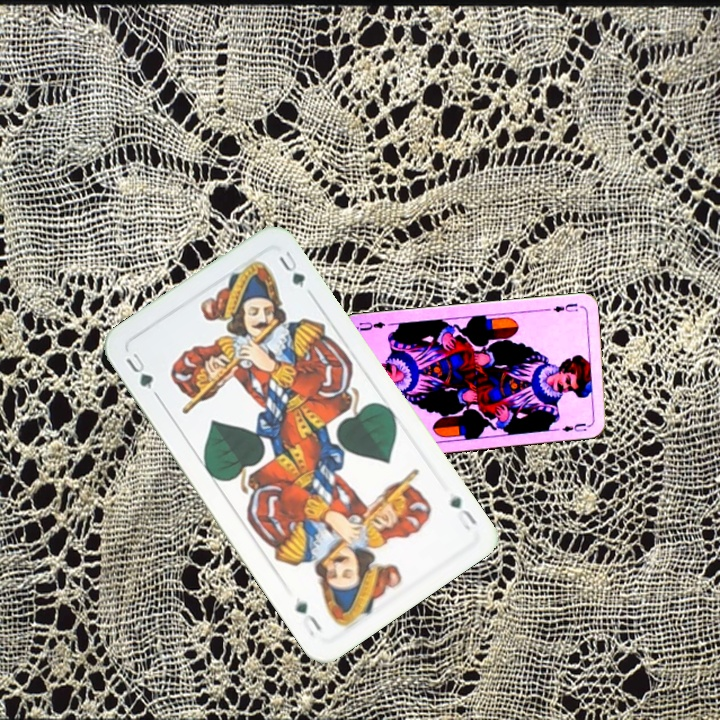EU: (549, 299, 581, 315)
GU: (121, 348, 161, 400), (446, 490, 480, 533)
